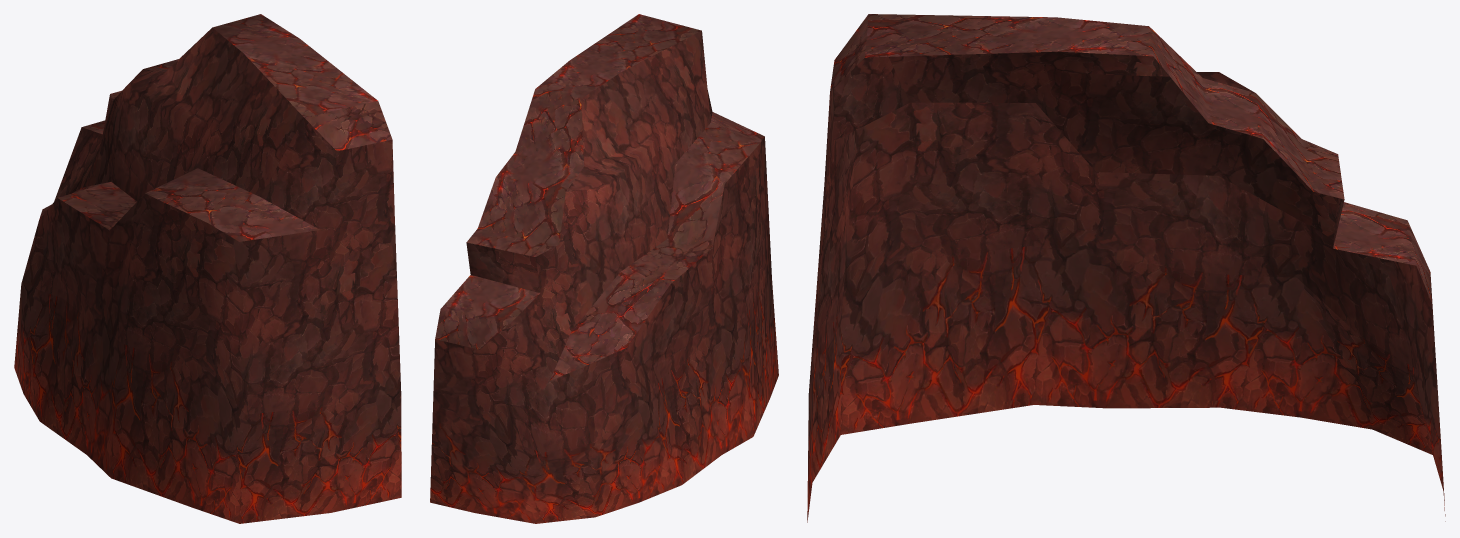
File: Dragon_Wall_03.FBX
3 views of the same model, side by side, from view 1: azimuth 30°, elevation 25°; view 2: azimuth 150°, elevation 25°; view 3: azimuth 270°, elevation 25° (orthographic). The views are drawn at different scales.
Visible parts, largest first — view 1: Dragon_Wall_03_02, Dragon_Wall_03_01, Dragon_Wall_03_03; view 2: Dragon_Wall_03_02, Dragon_Wall_03_03, Dragon_Wall_03_01; view 3: Dragon_Wall_03_02, Dragon_Wall_03_01, Dragon_Wall_03_03.
Boxes of the visible parts, x1,y1,x2,y2 form: Dragon_Wall_03_02: [21, 27, 400, 414]; Dragon_Wall_03_01: [14, 284, 401, 523]; Dragon_Wall_03_03: [39, 14, 392, 241]; Dragon_Wall_03_02: [432, 31, 771, 452]; Dragon_Wall_03_03: [435, 14, 764, 380]; Dragon_Wall_03_01: [430, 276, 778, 523]; Dragon_Wall_03_02: [809, 51, 1438, 411]; Dragon_Wall_03_01: [807, 246, 1445, 522]; Dragon_Wall_03_03: [830, 14, 1431, 301].
Size of the model in its own units: 13.1 by 24.27 by 29.72.
